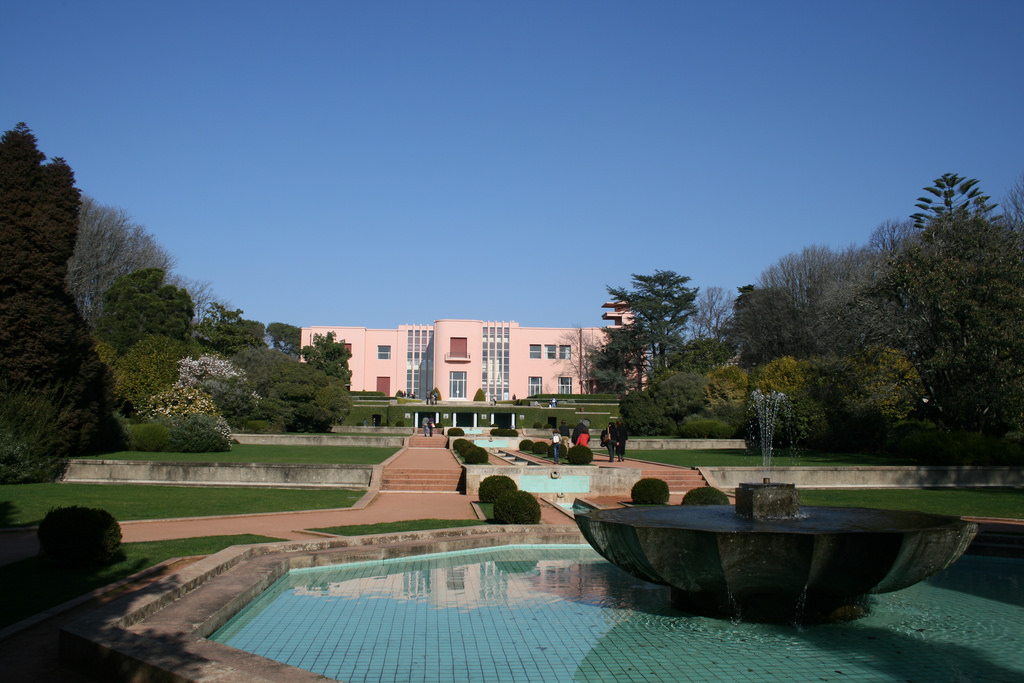serralves: (303, 296, 651, 402)
